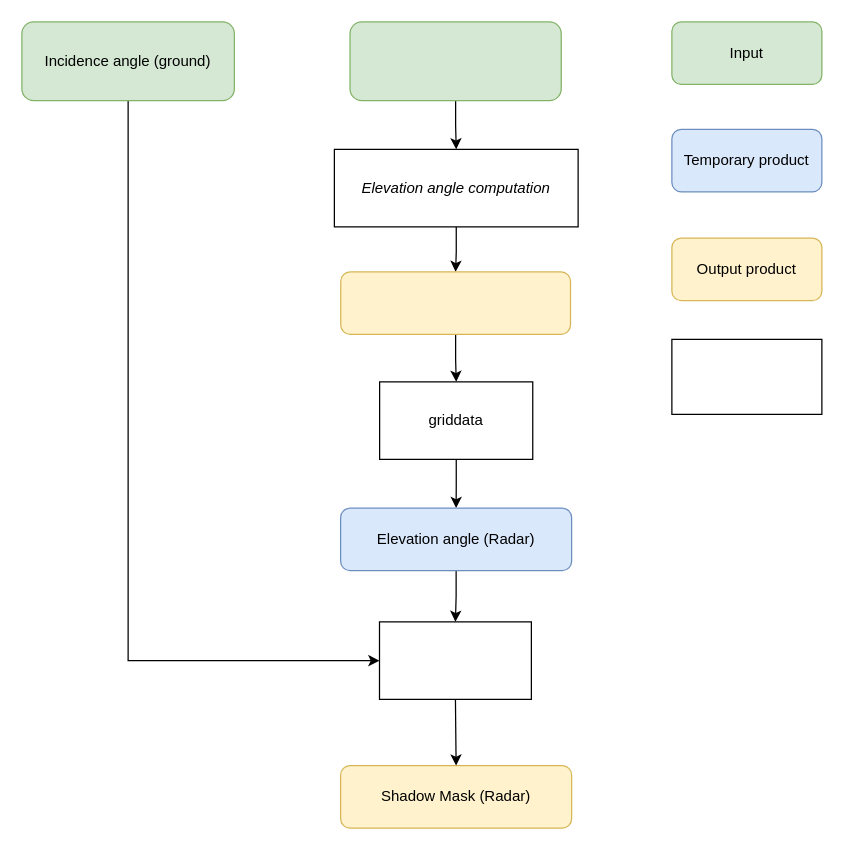
The diagram is 844 pixels wide and 850 high, and some of its shapes have lost their labels. The centre of each missing label's shape, as x and y in pixels:
"Elevation angle (ground)" belongs at (455,302).
"Processing block" belongs at (746,376).
"Reference Association Matrix ( G2R_AM ref )" belongs at (455,61).
"Shadow mask computation" belongs at (454,660).
